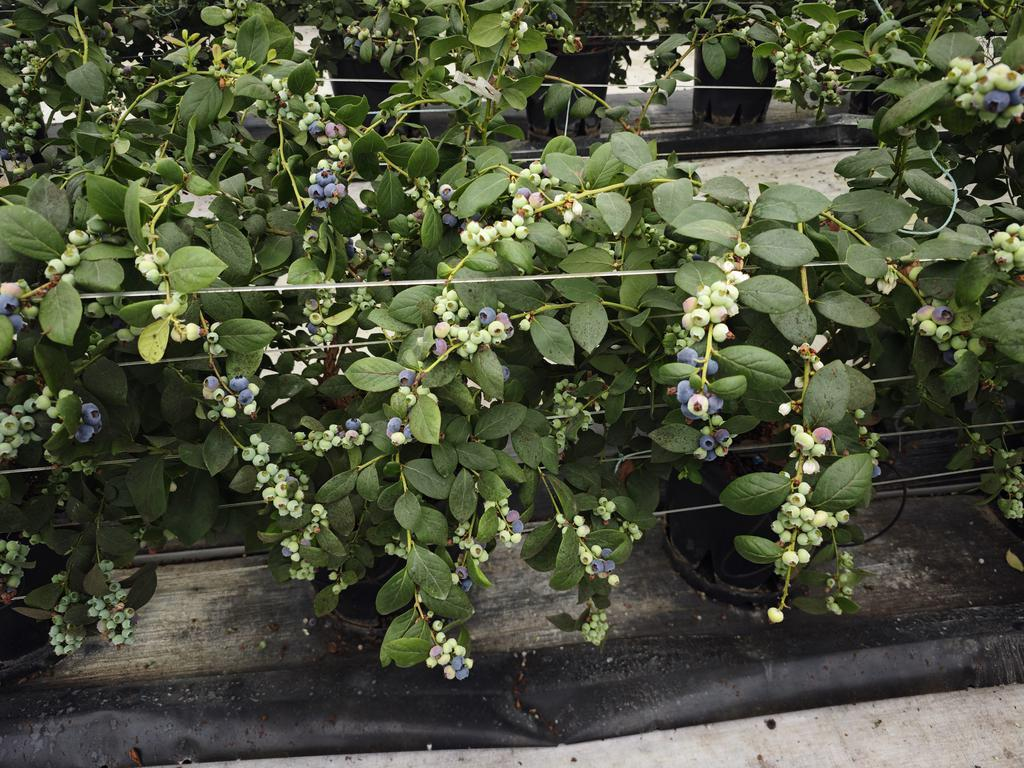RipeBlueBerry: (84, 402, 110, 430), (233, 376, 250, 393), (311, 181, 326, 197)
UnripeBlueBerry: (442, 323, 472, 339), (714, 284, 732, 308), (63, 243, 81, 264), (694, 310, 711, 328), (138, 257, 160, 270), (480, 306, 497, 321), (501, 222, 517, 237)
